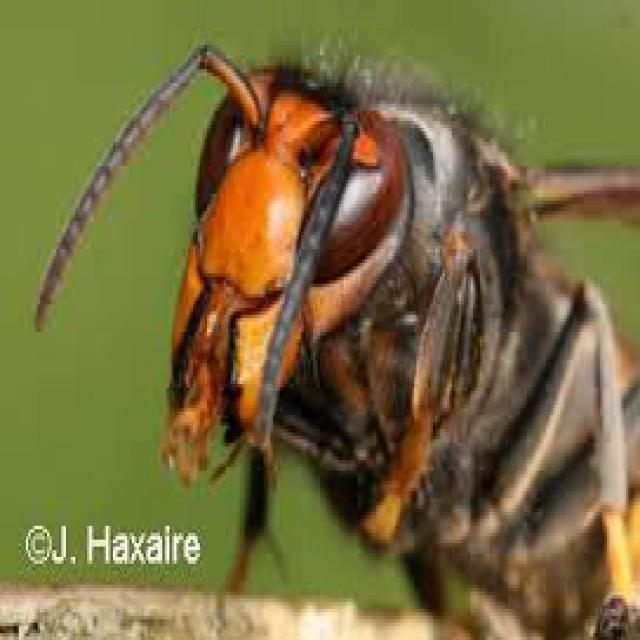Vespa Velutina: (26, 18, 638, 636)
